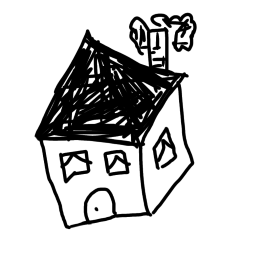door: (80, 185, 119, 230)
open_window: (147, 126, 183, 172), (57, 145, 96, 184), (101, 147, 132, 180)
shaded_roof: (18, 28, 192, 148)
smoking_chimney: (125, 11, 201, 81)
wall: (38, 133, 155, 234)
